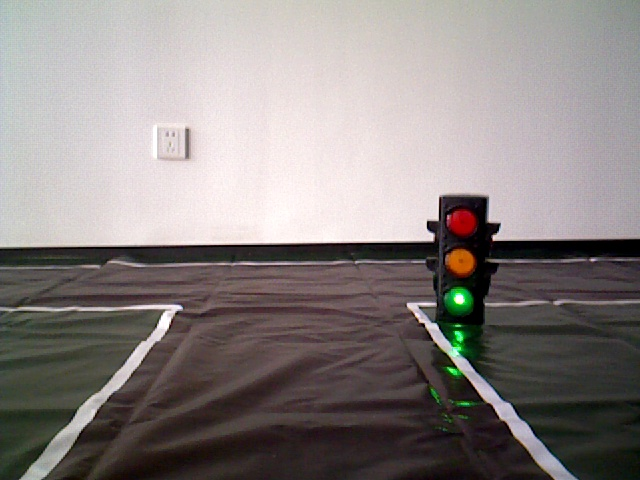green: (439, 197, 483, 321)
